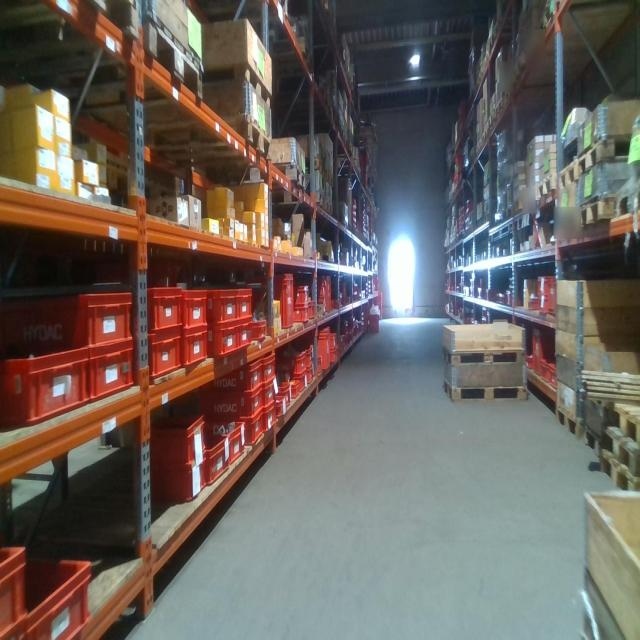pallet: (34, 22, 205, 127), (2, 2, 139, 71), (108, 119, 272, 166), (165, 68, 274, 117), (440, 376, 528, 412), (213, 161, 308, 192), (574, 133, 639, 169), (573, 195, 617, 236), (440, 348, 529, 368), (604, 424, 640, 472), (609, 185, 639, 228), (604, 453, 637, 488), (611, 403, 639, 441), (275, 196, 325, 216), (553, 160, 580, 194), (554, 409, 580, 444), (581, 431, 601, 469), (534, 174, 555, 207), (492, 9, 506, 46), (485, 36, 497, 66), (511, 195, 526, 218), (501, 204, 511, 223), (497, 97, 504, 124), (487, 110, 495, 132)
small_load_carrier: (4, 285, 140, 356), (1, 352, 88, 428), (20, 550, 92, 639), (141, 403, 208, 468), (154, 459, 208, 511), (87, 342, 136, 398), (250, 272, 297, 329), (196, 358, 259, 392), (4, 545, 28, 634), (192, 438, 229, 494), (192, 284, 239, 328), (197, 393, 264, 419), (144, 283, 181, 330), (146, 331, 181, 380), (205, 419, 264, 447), (175, 328, 212, 372), (176, 284, 210, 331), (212, 417, 244, 466), (532, 330, 560, 378), (309, 328, 330, 370), (212, 325, 236, 361), (231, 290, 257, 323), (277, 348, 307, 372), (277, 376, 307, 398), (259, 403, 278, 436), (234, 325, 253, 356), (279, 378, 301, 402), (259, 353, 276, 383), (259, 381, 275, 409), (547, 274, 558, 313), (321, 276, 333, 311), (271, 397, 287, 422), (277, 383, 290, 410), (364, 313, 379, 336), (251, 318, 268, 337), (535, 277, 548, 300), (293, 287, 307, 307), (293, 308, 307, 326), (539, 359, 549, 384), (547, 366, 558, 388), (305, 302, 315, 323), (304, 345, 313, 367), (328, 347, 338, 364), (307, 276, 324, 286), (315, 296, 325, 313), (328, 332, 337, 350), (537, 299, 548, 313), (305, 365, 314, 382), (312, 286, 325, 296), (530, 299, 536, 312)
